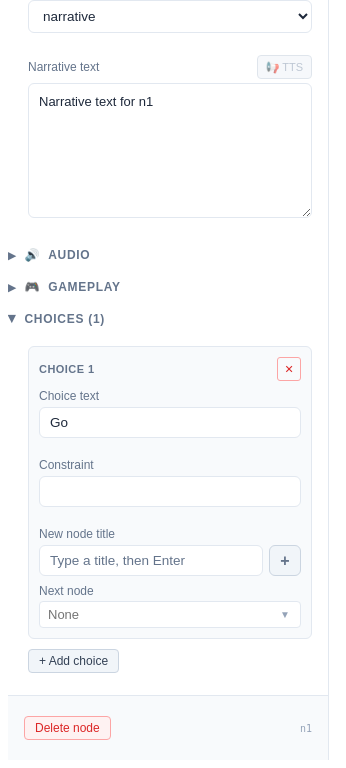
Test: CompanionPanel — NodeComboField (next node) › Escape closes the listbox
The width and height of the screenshot is (346, 768).
(page scrolled)
Focus the dropdown labelled "Next node" at (170, 614), box [39,601,301,628]
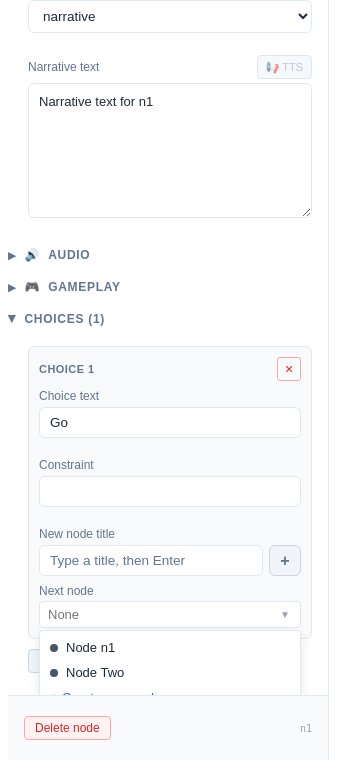
Result: the option "Node Two" is shown at [50,665,124,680]
Press Escape in the dropdown labelled "Next node", box [39,601,301,628]
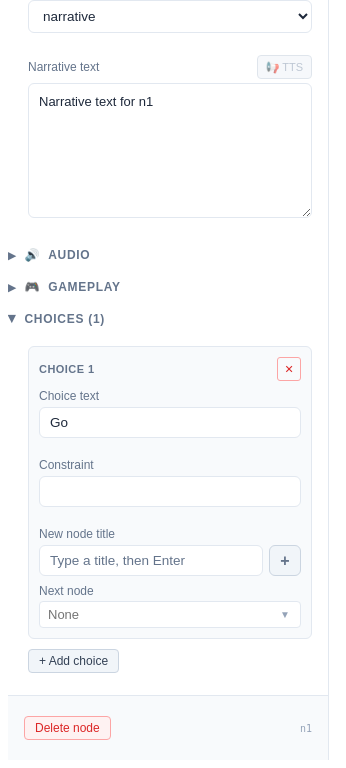
Result: the option "Node Two" is gone
